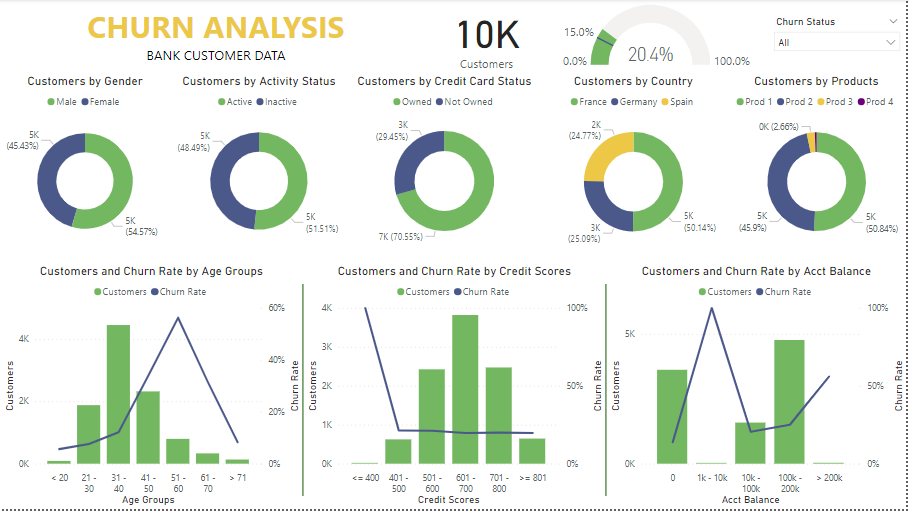

What the dashboard file says about the page in this screenshot:
{"tool":"powerbi","page":{"name":"Churn Analysis","canvas":[1280,720],"ordinal":0},"visuals":[{"type":"card","fields":{"Values":["Customer Data.Customers"]},"box":[609.9,0,153.9,105.9],"z":0},{"type":"donutChart","fields":{"Category":["Customer Data.Gender"],"Y":["Customer Data.Customers"]},"box":[0,105.9,240,254.1],"z":2000},{"type":"donutChart","fields":{"Y":["Customer Data.Customers"],"Category":["Customer Data.Activity Status"]},"box":[240,105.9,251.3,254.1],"z":6001},{"type":"donutChart","fields":{"Y":["Customer Data.Customers"],"Category":["Customer Data.Credit Card Status"]},"box":[491.3,105.9,272.5,254.1],"z":6002},{"type":"donutChart","fields":{"Y":["Customer Data.Customers"],"Category":["Customer Data.Country"]},"box":[763.8,105.9,261.2,255.5],"z":6003},{"type":"donutChart","fields":{"Y":["Customer Data.Customers"],"Category":["Customer Data.Products"]},"box":[1024.9,105.9,255.5,255.5],"z":6004},{"type":"lineClusteredColumnComboChart","fields":{"Category":["Age Groups.Age Groups"],"Y":["Customer Data.Customers"],"Y2":["Customer Data.Churn Rate"]},"box":[0,374.1,427.8,345.9],"z":6005},{"type":"lineClusteredColumnComboChart","fields":{"Category":["Credit Score Groups.Credit Scores"],"Y":["Customer Data.Customers"],"Y2":["Customer Data.Churn Rate"]},"box":[427.8,374.1,427.8,345.9],"z":6006},{"type":"lineClusteredColumnComboChart","fields":{"Y":["Customer Data.Customers"],"Y2":["Customer Data.Churn Rate"],"Category":["Acct Balance Groups.Acct Balance"]},"box":[855.5,374.1,424.9,345.9],"z":6007},{"type":"slicer","fields":{"Values":["Customer Data.Churn Status"]},"box":[1082.8,18.4,197.6,70.6],"z":6008},{"type":"gauge","fields":{"Y":["Customer Data.Churn Rate"],"MaxValue":["Max(Customer Data.Max Churn Rate)"],"MinValue":["Min(Customer Data.Min Churn Rate)"],"TargetValue":["Min(Customer Data.Target Churn Rate)"]},"box":[784.9,0,283.8,105.9],"z":6009},{"type":"textbox","box":[0,4.2,609.9,101.6],"z":6010},{"type":"shape","box":[278.1,402.8,299.3,299.3],"z":6011},{"type":"shape","box":[705.9,402.8,299.3,299.3],"z":6012}]}

Visuals, with their boxes in screenshot pixels (x1, y1, x2, y2), scaled from the page's 1280x720 canvas onto the 909x511 screenshot:
card - Customer Data.Customers: rect(433, 0, 542, 75)
donutChart - Customer Data.Gender x Customer Data.Customers: rect(0, 75, 170, 256)
donutChart - Customer Data.Customers x Customer Data.Activity Status: rect(170, 75, 349, 256)
donutChart - Customer Data.Customers x Customer Data.Credit Card Status: rect(349, 75, 542, 256)
donutChart - Customer Data.Customers x Customer Data.Country: rect(542, 75, 728, 256)
donutChart - Customer Data.Customers x Customer Data.Products: rect(728, 75, 908, 256)
lineClusteredColumnComboChart - Age Groups.Age Groups x Customer Data.Customers: rect(0, 266, 304, 510)
lineClusteredColumnComboChart - Credit Score Groups.Credit Scores x Customer Data.Customers: rect(304, 266, 608, 510)
lineClusteredColumnComboChart - Customer Data.Customers x Customer Data.Churn Rate: rect(608, 266, 908, 510)
slicer - Customer Data.Churn Status: rect(769, 13, 908, 63)
gauge - Customer Data.Churn Rate x Max(Customer Data.Max Churn Rate): rect(557, 0, 759, 75)
textbox: rect(0, 3, 433, 75)
shape: rect(197, 286, 410, 498)
shape: rect(501, 286, 714, 498)
